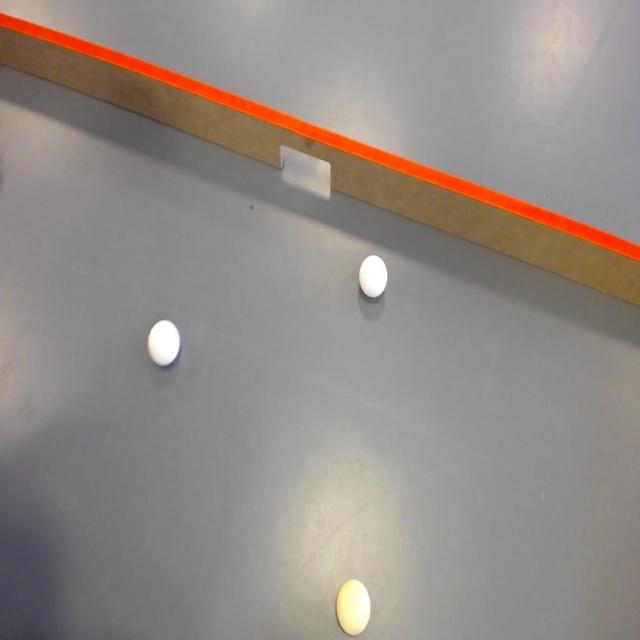obstacle: (2, 10, 640, 310)
small-goal: (279, 143, 335, 195)
white-golf-balls: (336, 578, 376, 636), (146, 317, 183, 372), (358, 252, 390, 302)
